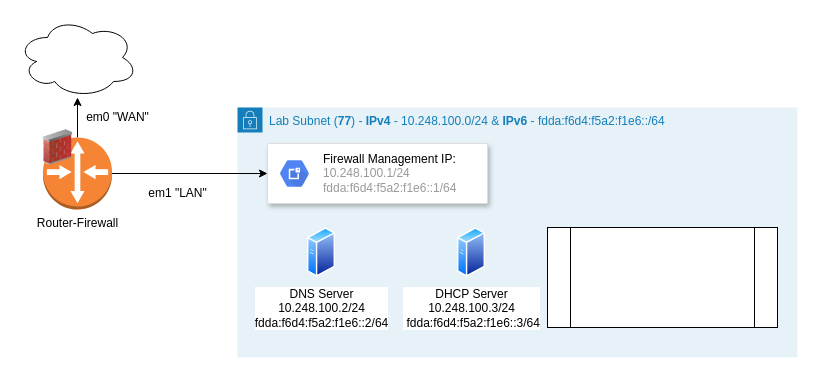
This 815x375 diagram has some shape labels left out. Each missing label, with the centre of its shape:
DHCP RANGE 10.248.100.[ 50-99 ]/24 fdda:f6d4:f5a2:f1e6::[ 32-63 ]/64: (662,277)
Internet: (77,57)
